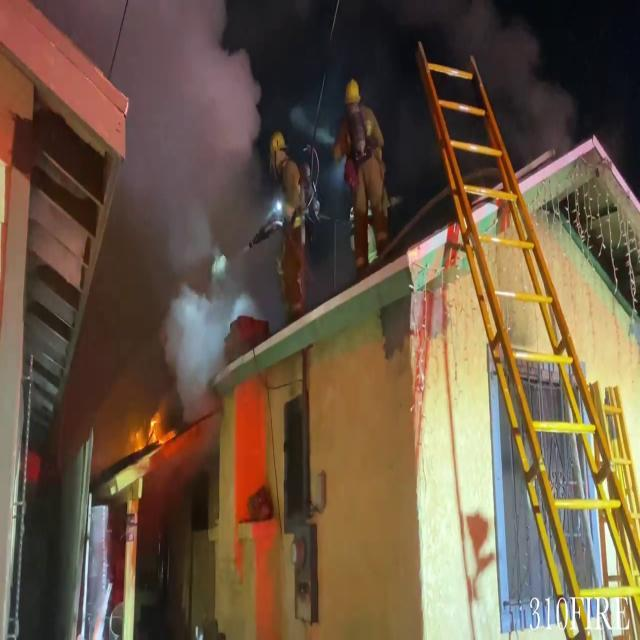Smoke: (92, 0, 264, 369)
